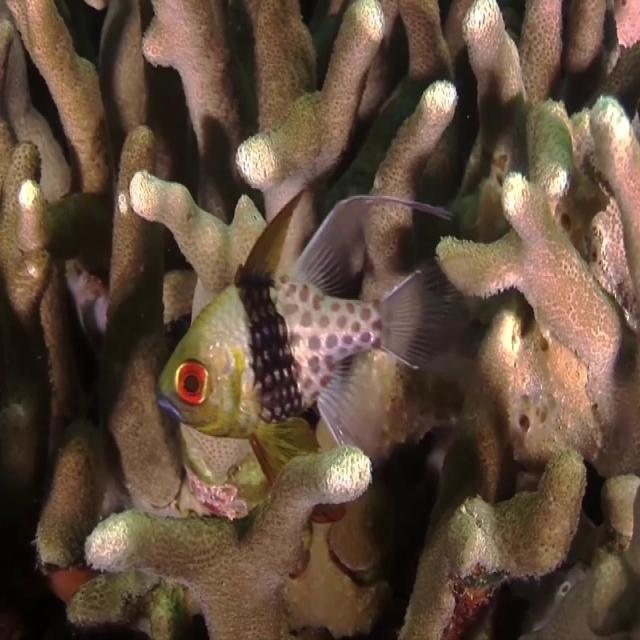fish: (156, 188, 465, 482)
